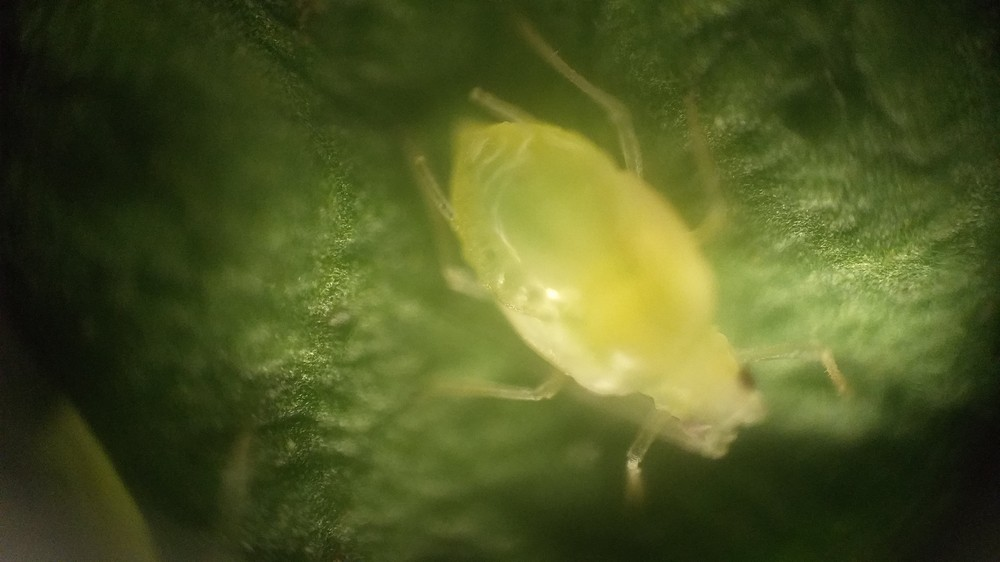Pulgon: (362, 32, 887, 541)
